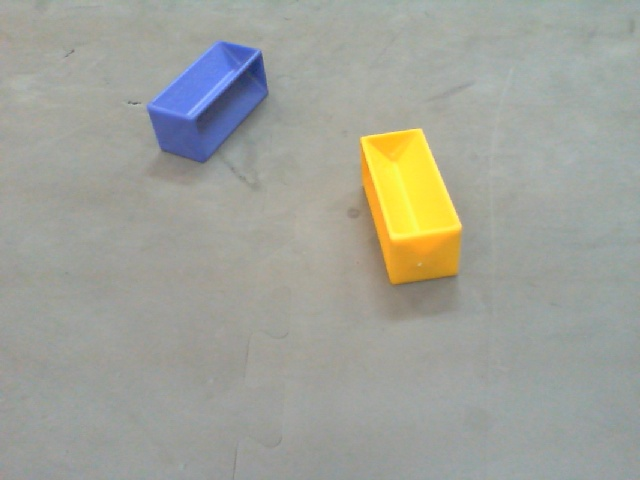BlueSample: (144, 36, 272, 167)
YellowSample: (357, 126, 464, 288)
